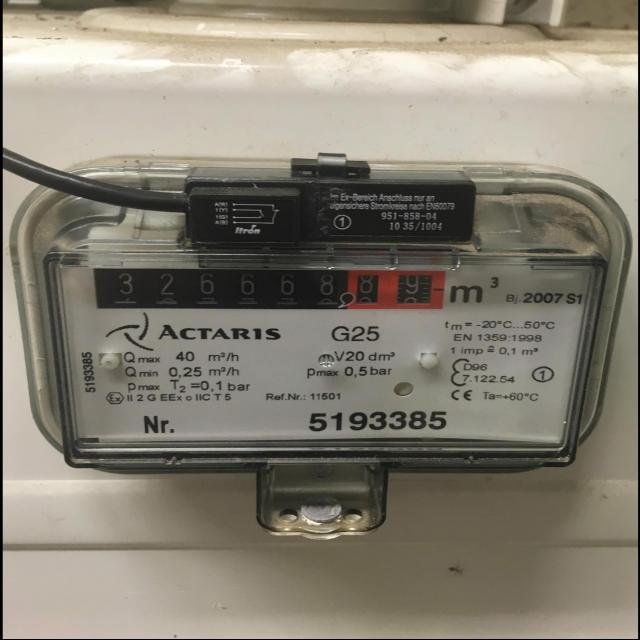gaz_meter: (53, 256, 580, 450)
indication: (97, 269, 448, 312)
